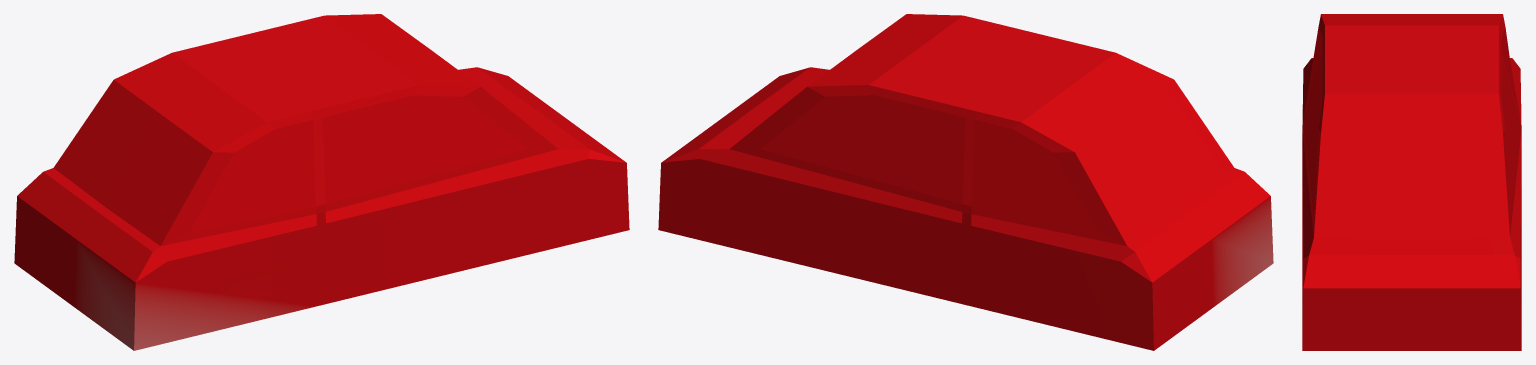
The model's file is car2.fbx.
The picture shows the model from 3 angles, left to right: view 1: azimuth 30°, elevation 25°; view 2: azimuth 150°, elevation 25°; view 3: azimuth 270°, elevation 25°; orthographic projection. The views are drawn at different scales.
Visible parts, largest first — view 1: car.001; view 2: car.001; view 3: car.001.
Boxes of the visible parts, x1,y1,x2,y2 form: car.001: (14,14,629,350); car.001: (658,14,1273,350); car.001: (1302,14,1521,350).
Size of the model in its own units: 115 by 275 by 97.85.
